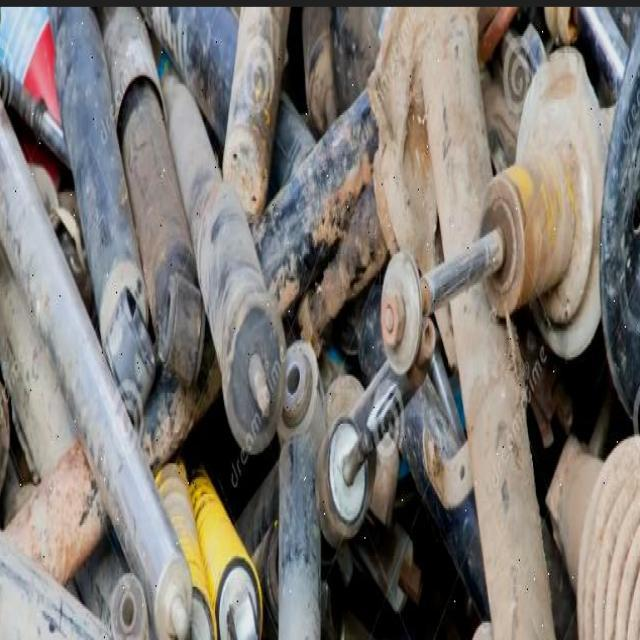shock absorber: (96, 5, 205, 391)
